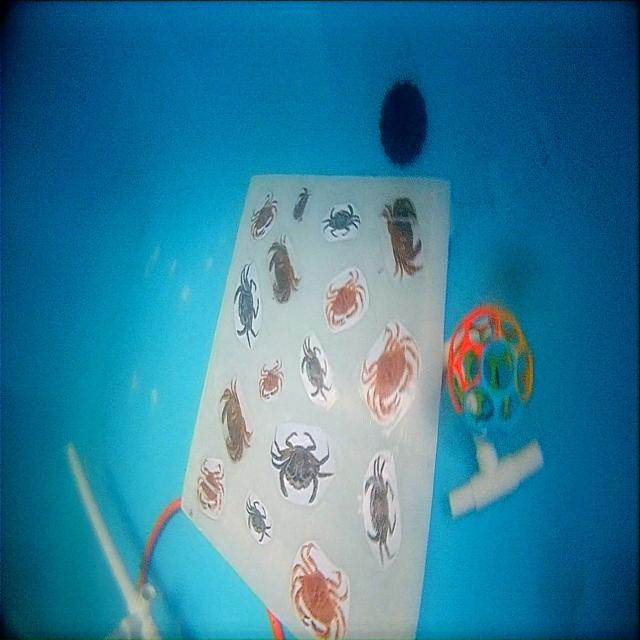GreenCrab: (271, 431, 333, 504), (365, 455, 396, 565), (234, 264, 259, 348), (301, 337, 331, 399), (322, 204, 360, 237), (246, 497, 271, 542)
